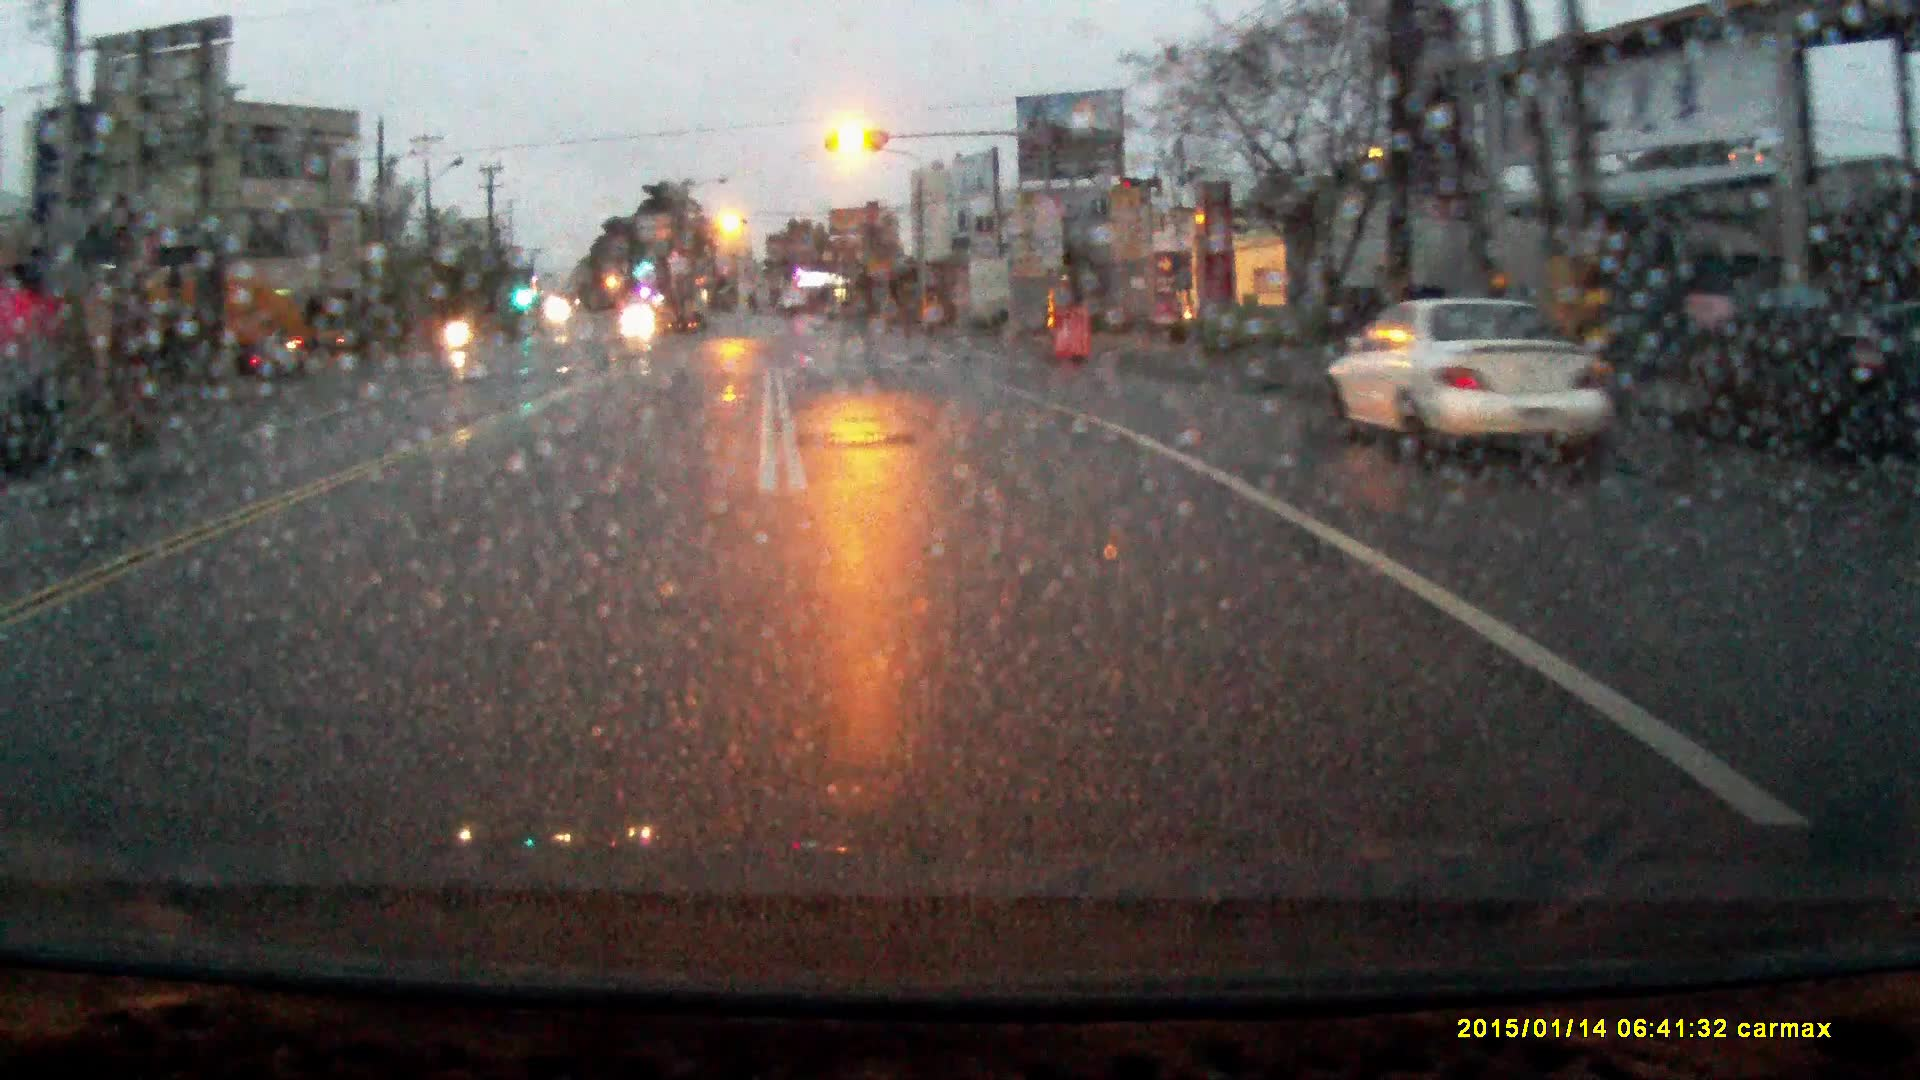rider: (444, 295, 476, 352)
vehicle: (1327, 297, 1635, 466), (112, 260, 350, 360), (620, 302, 656, 334)
